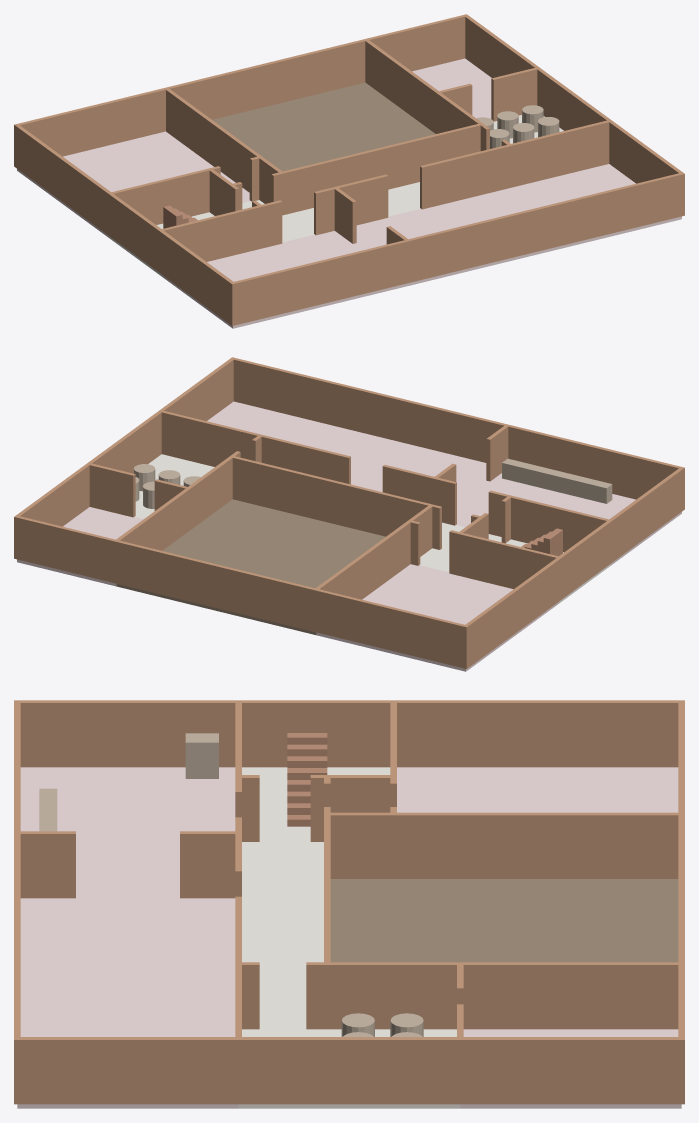
The picture shows the model from 3 angles, top to bottom: view 1: azimuth 30°, elevation 25°; view 2: azimuth 150°, elevation 25°; view 3: azimuth 270°, elevation 25°; orthographic projection. The views are drawn at different scales.
Visible parts, largest first — view 1: nm1_muro_1, nm1_muro_11, nm1_tierra, nm1_muro_12, nm1_muro_4, nm1_piso_casino_0, nm1_muro_6, nm1_muro_20, nm1_piso_billar_0, nm1_muro_19, nm1_muro_15, nm1_muro_2 (+10 smaller); view 2: nm1_muro_11, nm1_muro_1, nm1_tierra, nm1_muro_12, nm1_muro_6, nm1_piso_casino_0, nm1_muro_20, nm1_muro_4, nm1_piso_billar_0, nm1_muro_19, nm1_muro_15, nm1_muro_7 (+12 smaller); view 3: nm1_muro_20, nm1_muro_12, nm1_piso_casino_0, nm1_tierra, nm1_muro_19, nm1_muro_15, nm1_piso_cantina_0, nm1_piso_pasillo_0, nm1_piso_billar_0, nm1_muro_16, nm1_muro_17, nm1_muro_14 (+16 smaller).
Boxes of the visible parts, <box> form: nm1_muro_1: <box>230,172,684,325</box>; nm1_muro_11: <box>14,14,467,156</box>; nm1_tierra: <box>212,82,435,171</box>; nm1_muro_12: <box>14,124,235,325</box>; nm1_muro_4: <box>420,120,609,209</box>; nm1_piso_casino_0: <box>355,164,681,285</box>; nm1_muro_6: <box>271,123,483,215</box>; nm1_muro_20: <box>464,15,682,205</box>; nm1_piso_billar_0: <box>17,131,250,238</box>; nm1_muro_19: <box>365,39,489,150</box>; nm1_muro_15: <box>165,88,282,203</box>; nm1_muro_2: <box>158,200,282,272</box>; nm1_muro_11: <box>14,515,468,668</box>; nm1_muro_1: <box>230,357,684,510</box>; nm1_tierra: <box>116,499,385,634</box>; nm1_muro_12: <box>463,468,684,667</box>; nm1_muro_6: <box>229,455,441,549</box>; nm1_piso_casino_0: <box>207,401,487,503</box>; nm1_muro_20: <box>15,357,235,526</box>; nm1_muro_4: <box>158,410,350,484</box>; nm1_piso_billar_0: <box>316,564,559,671</box>; nm1_muro_19: <box>113,451,240,583</box>; nm1_muro_15: <box>313,504,433,632</box>; nm1_muro_7: <box>449,530,561,600</box>; nm1_muro_20: <box>14,1037,684,1104</box>; nm1_muro_12: <box>14,700,684,767</box>; nm1_piso_casino_0: <box>17,897,238,1108</box>; nm1_tierra: <box>330,879,678,962</box>; nm1_muro_19: <box>306,962,684,1029</box>; nm1_muro_15: <box>324,812,684,878</box>; nm1_piso_cantina_0: <box>20,767,235,896</box>; nm1_piso_pasillo_0: <box>242,840,323,1027</box>; nm1_piso_billar_0: <box>397,767,678,812</box>; nm1_muro_16: <box>14,831,75,898</box>; nm1_muro_17: <box>180,831,241,898</box>; nm1_muro_14: <box>310,775,395,841</box>.
Bounding box in the file's own units: 36.3 × 3.5 × 30.3.
